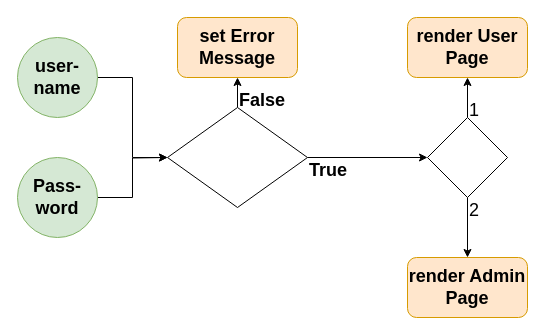
This 545x335 diagram has some shape labels left out. Each missing label, with the centre of its shape:
"access" belongs at pixel 467 157.
"authenticated" belongs at pixel 237 157.
